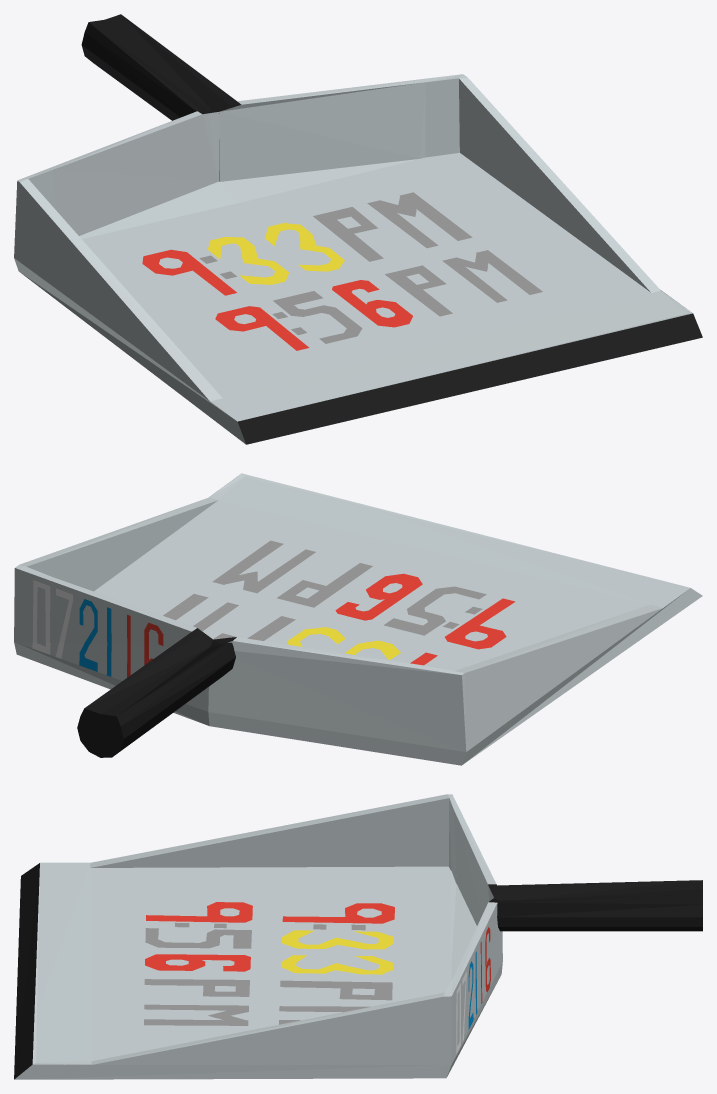
The model's file is DustPan.glb.
The picture shows the model from 3 angles, top to bottom: view 1: azimuth 30°, elevation 25°; view 2: azimuth 150°, elevation 25°; view 3: azimuth 270°, elevation 25°; orthographic projection. The views are drawn at different scales.
Parts seen in each view (by area): view 1: group134576862, group712486981; view 2: group134576862, group712486981; view 3: group134576862, group712486981.
Boxes of the visible parts, box(x1,y1,x2,y2) form: group134576862: box(14, 74, 702, 444); group712486981: box(81, 14, 236, 120); group134576862: box(14, 473, 702, 765); group712486981: box(77, 631, 235, 757); group134576862: box(14, 794, 502, 1079); group712486981: box(496, 880, 702, 931).
Size of the model in its own units: 0.9763 by 0.2057 by 1.4.
